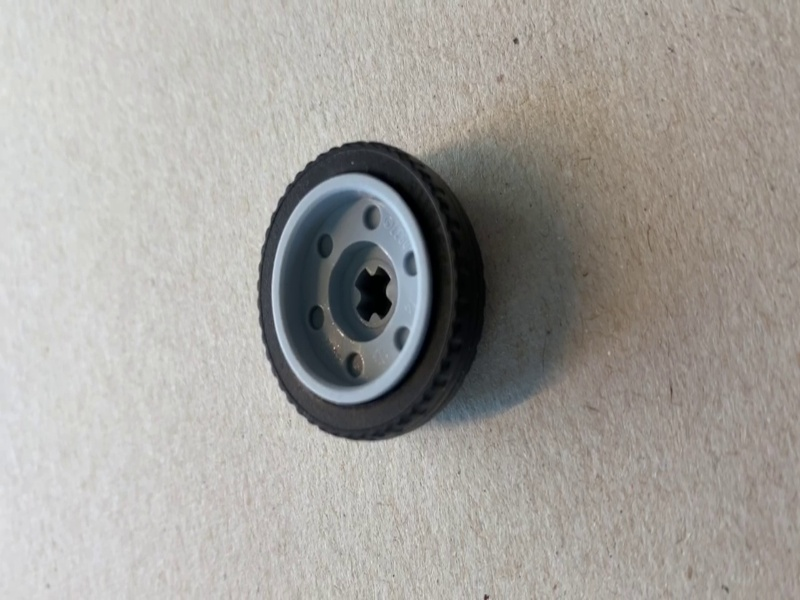tire: (255, 140, 491, 445)
